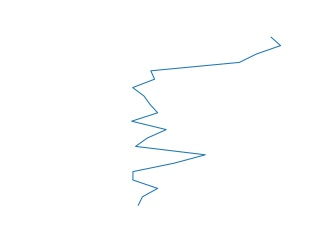crevasseRiverChannelBar: (125, 34, 287, 209)
